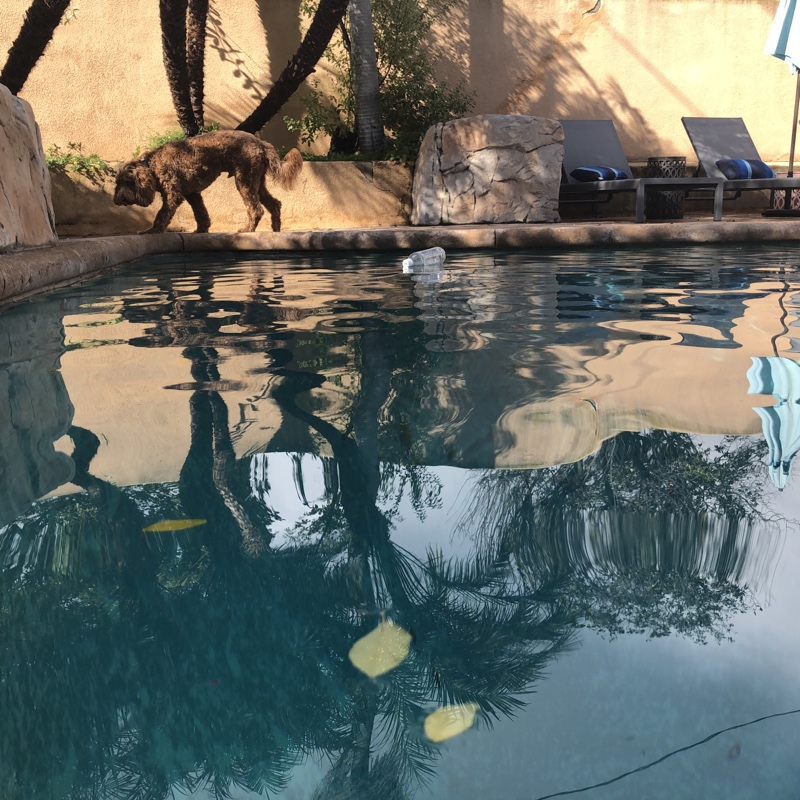Plastic Bottle: (400, 245, 448, 272)
